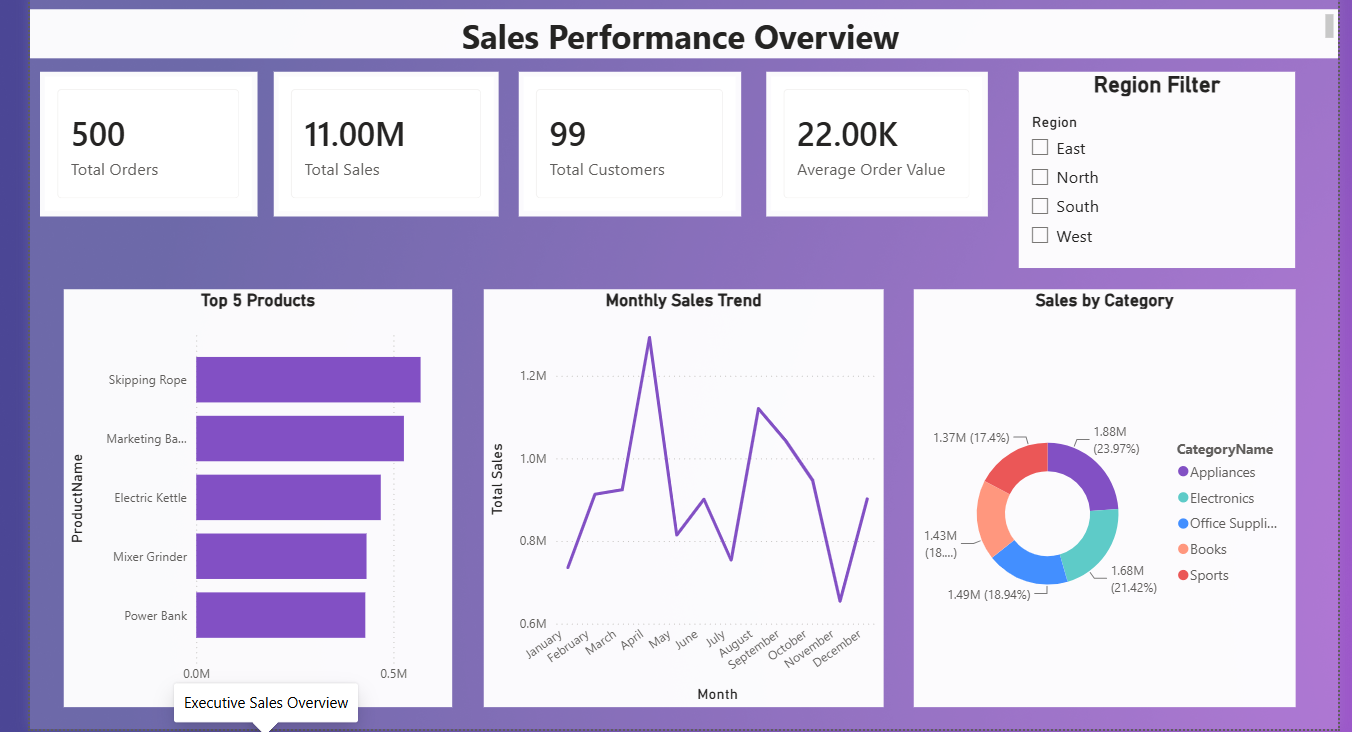

This screenshot's page, from the dashboard's own definition file:
{"tool":"powerbi","page":{"name":"Executive Sales Overview","canvas":[1280,720],"ordinal":0},"visuals":[{"type":"cardVisual","fields":{"Data":["Orders.Total Sales"]},"box":[238.5,77,220.1,141.8],"z":0},{"type":"cardVisual","fields":{"Data":["Orders.Total Orders"]},"box":[9.8,77,212.8,141.8],"z":1000},{"type":"cardVisual","fields":{"Data":["Orders.Total Customers"]},"box":[478.1,77,217.7,141.8],"z":2000},{"type":"cardVisual","fields":{"Data":["Orders.Average Order Value"]},"box":[720.2,77,216.4,141.8],"z":3000},{"type":"textbox","box":[0,15.9,1280.3,47.7],"z":3001},{"type":"clusteredBarChart","title":"Top 5 Products","fields":{"Category":["Products.ProductName"],"Y":["Orders.Total Sales"]},"box":[33,289.8,380.3,408.4],"z":3002},{"type":"lineChart","title":"Monthly Sales Trend","fields":{"Category":["DateTable.Month"],"Y":["Orders.Total Sales"]},"box":[443.9,289.8,391.1,408.9],"z":3003},{"type":"donutChart","title":"Sales by Category","fields":{"Category":["Categories.CategoryName"],"Y":["Orders.Total Sales"]},"box":[864.5,289.8,373.2,408.9],"z":3004},{"type":"slicer","title":"Region Filter","fields":{"Values":["salespersons.Region"]},"box":[967.3,77,270.2,192],"z":3005}]}

Visuals, with their boxes on the page's 1280x720 design canvas (x1, y1, x2, y2). These are canvas units, not pixel positions in the 1352x732 screenshot, which may show the page scaled, cropped or inside an application window:
cardVisual - Orders.Total Sales: crop(238, 77, 459, 219)
cardVisual - Orders.Total Orders: crop(10, 77, 223, 219)
cardVisual - Orders.Total Customers: crop(478, 77, 696, 219)
cardVisual - Orders.Average Order Value: crop(720, 77, 937, 219)
textbox: crop(0, 16, 1280, 64)
"Top 5 Products" clusteredBarChart: crop(33, 290, 413, 698)
"Monthly Sales Trend" lineChart: crop(444, 290, 835, 699)
"Sales by Category" donutChart: crop(864, 290, 1238, 699)
"Region Filter" slicer: crop(967, 77, 1238, 269)
